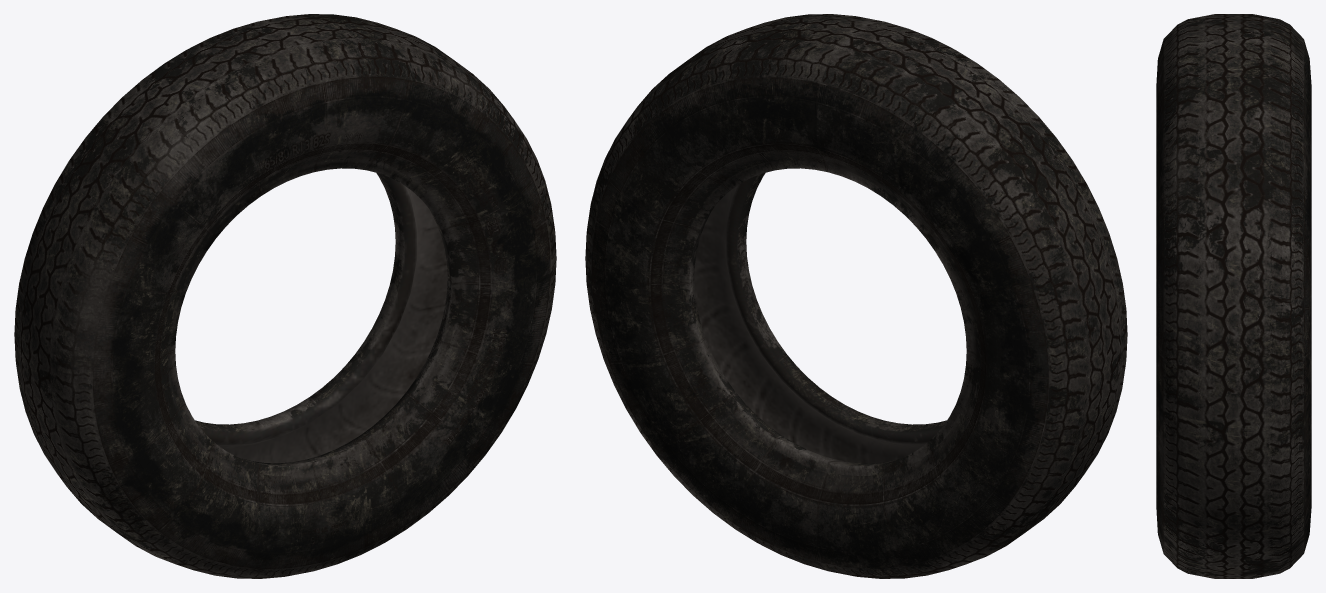
Rendered from old_tyre_4k.fbx.
3 views of the same model, side by side, from view 1: azimuth 30°, elevation 25°; view 2: azimuth 150°, elevation 25°; view 3: azimuth 270°, elevation 25° (orthographic). The views are drawn at different scales.
Parts seen in each view (by area): view 1: old_tyre; view 2: old_tyre; view 3: old_tyre.
Boxes of the visible parts, left/top/right/bottom form: old_tyre: left=14, top=14, right=556, bottom=578; old_tyre: left=585, top=14, right=1127, bottom=578; old_tyre: left=1156, top=14, right=1311, bottom=578.
Bounding box in the file's own units: 60 × 60 × 16.5.
Materials: 1 (1 with a texture image).
